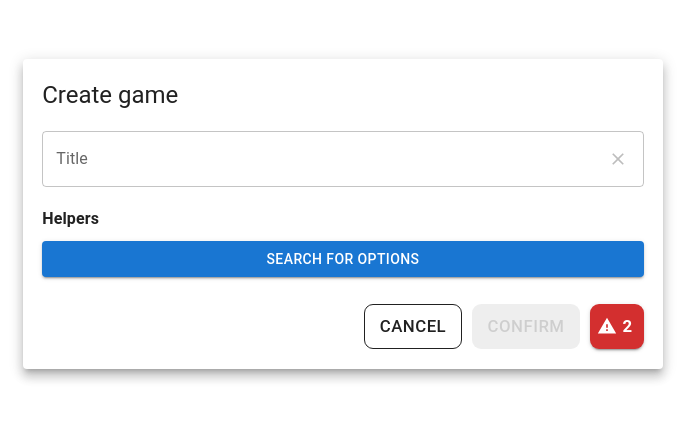
it: FormScreen › validation errors › reveals per-field messages when the error count is clicked
Click the button named "Show 2 form errors": [617, 326] box [590,304,644,349]
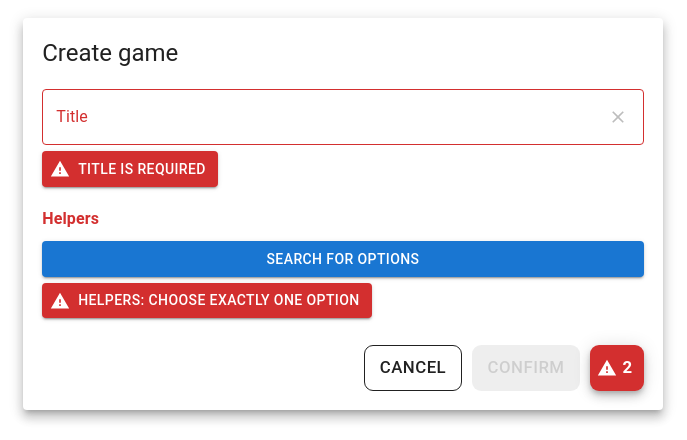
Result: the button "Title is required" is shown at [42,151,218,187]
Result: the button "Helpers: choose exactly one option" is shown at [42,283,372,318]
